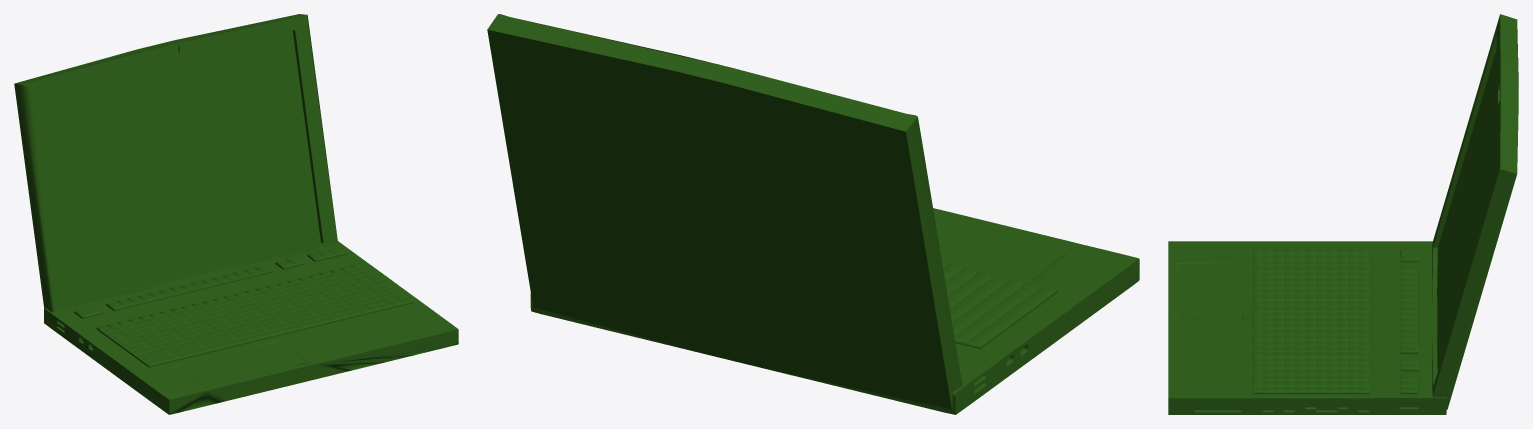
Rendered from Laptop_LowPoly.glb.
The picture shows the model from 3 angles, left to right: view 1: azimuth 30°, elevation 25°; view 2: azimuth 150°, elevation 25°; view 3: azimuth 270°, elevation 25°; orthographic projection. The views are drawn at different scales.
Parts seen in each view (by area): view 1: Laptop_2, Laptop_0, Laptop_1; view 2: Laptop_0, Laptop_1; view 3: Laptop_0, Laptop_1, Laptop_2.
Boxes of the visible parts, box(x1,y1,x2,y2) form: Laptop_2: box(37, 30, 320, 304); Laptop_0: box(14, 14, 458, 414); Laptop_1: box(56, 247, 413, 386); Laptop_0: box(487, 14, 1139, 414); Laptop_1: box(934, 216, 1072, 393); Laptop_0: box(1168, 14, 1518, 414); Laptop_1: box(1178, 245, 1418, 412); Laptop_2: box(1437, 49, 1497, 371).
Bounding box in the file's own units: 4 × 2.95 × 3.78.
